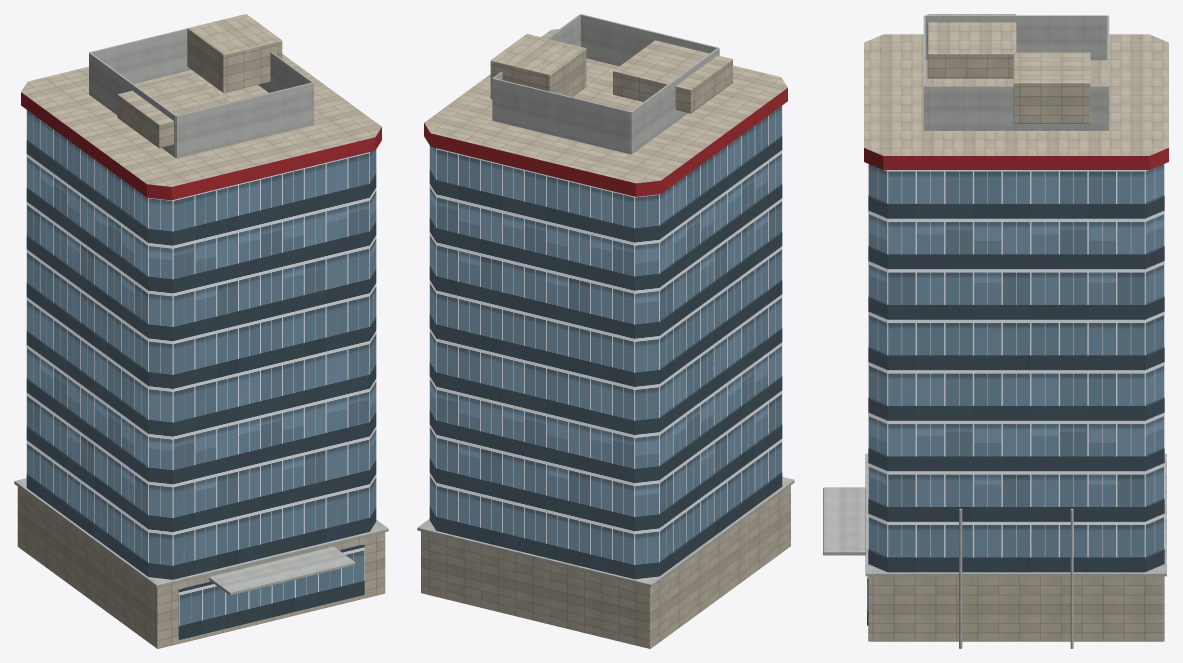
Rendered from LM_ENV_TowerUOB.glb.
3 views of the same model, side by side, from view 1: azimuth 30°, elevation 25°; view 2: azimuth 150°, elevation 25°; view 3: azimuth 270°, elevation 25° (orthographic). The views are drawn at different scales.
Parts seen in each view (by area): view 1: TowerUOB; view 2: TowerUOB; view 3: TowerUOB.
Boxes of the visible parts, left/top/right/bottom form: TowerUOB: left=14, top=14, right=388, bottom=648; TowerUOB: left=417, top=14, right=794, bottom=648; TowerUOB: left=823, top=14, right=1168, bottom=648.
Size of the model in its own units: 17.44 by 34.3 by 19.85.
4 materials, 3 textured.
